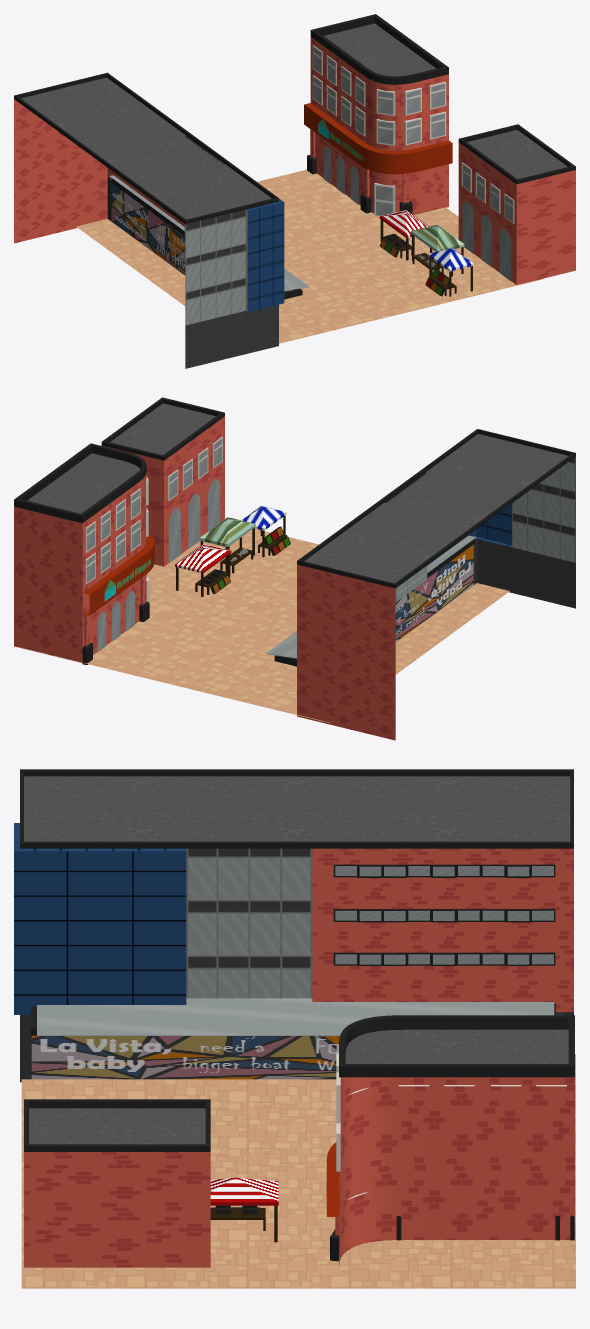
The model's file is Module 4.fbx.
The picture shows the model from 3 angles, top to bottom: view 1: azimuth 30°, elevation 25°; view 2: azimuth 150°, elevation 25°; view 3: azimuth 270°, elevation 25°; orthographic projection. The views are drawn at different scales.
Parts seen in each view (by area): view 1: Third Module; view 2: Third Module; view 3: Third Module.
Part boxes in pixels (x1,y1,x2,y2): Third Module: (14,14,575,368); Third Module: (14,397,575,740); Third Module: (14,769,575,1288).
Size of the model in its own units: 1187 by 429 by 912.
